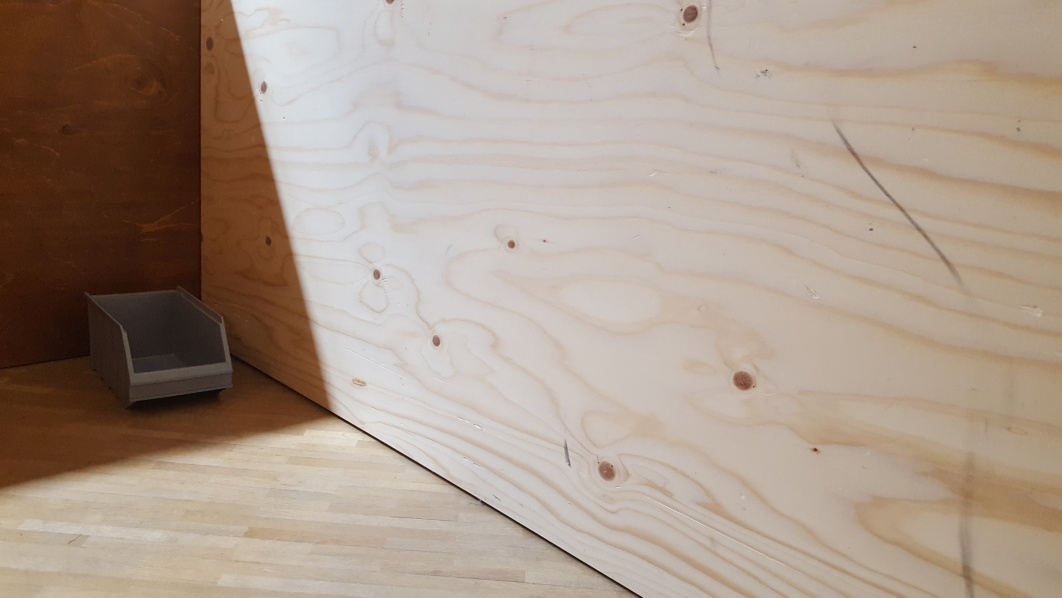tray: (80, 284, 237, 407)
